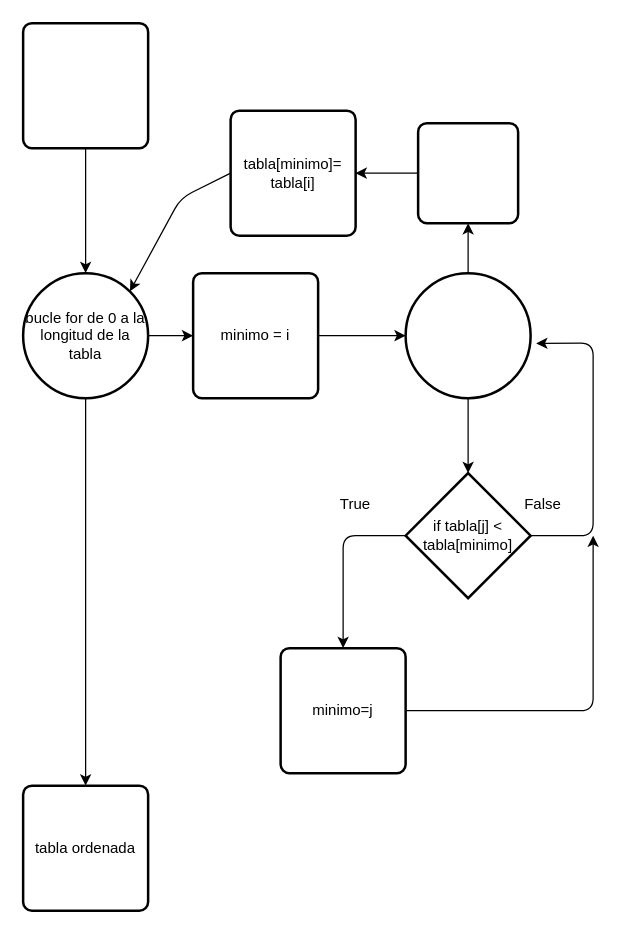
The diagram is 625 pixels wide and 933 high, and some of its shapes have lost their labels. Each missing label, with the centre of its shape:
"bucle for de i+1 a la longitud de la tabla" goes at point (467, 335).
"creo una nueva tabla, ordenado, de la misma longitud que la tabla original" goes at point (85, 85).
"ordenado[i]= tabla[minimo]" goes at point (467, 172).
